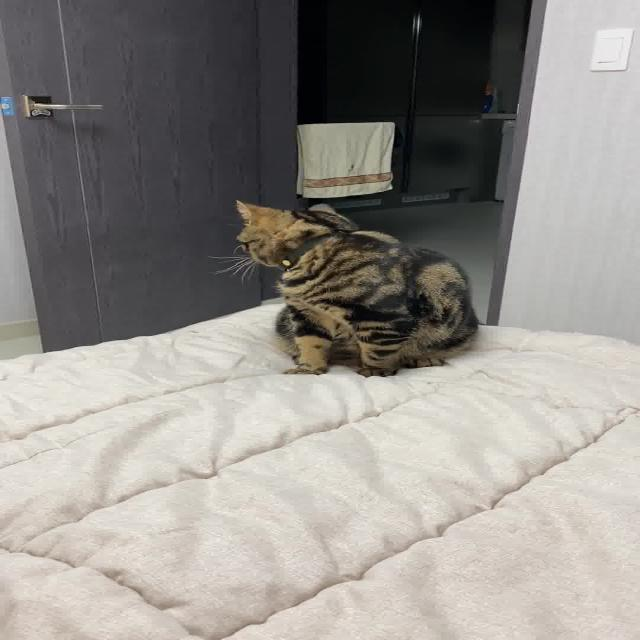cat: (215, 192, 492, 388)
